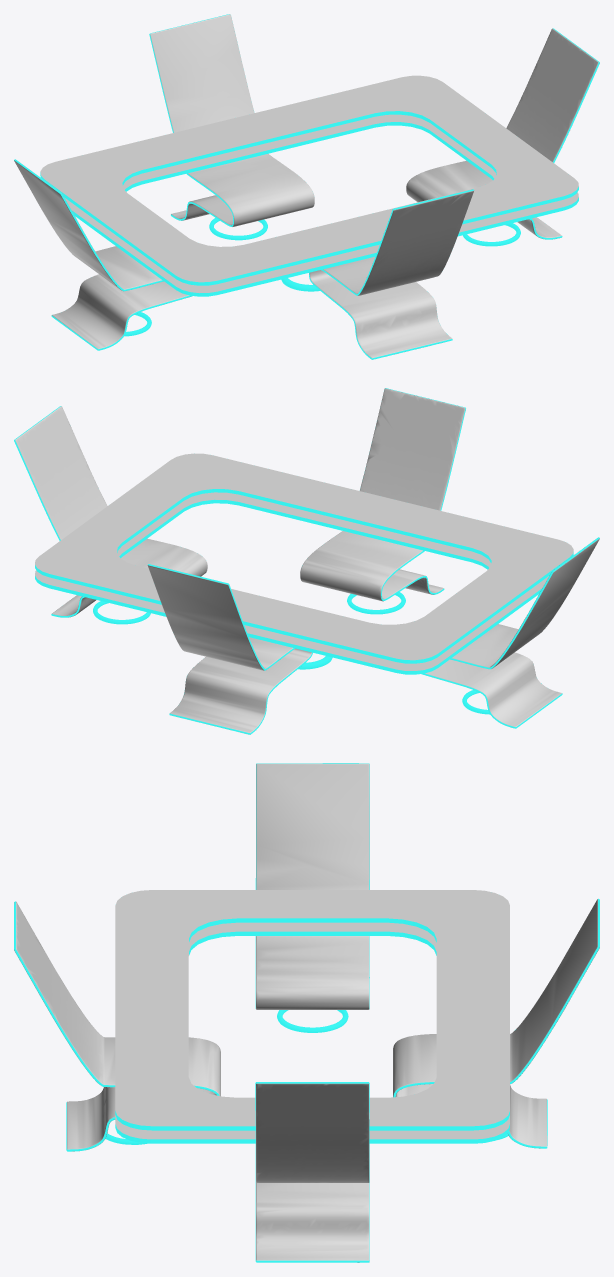
Rendered from meeting-table.glb.
The picture shows the model from 3 angles, top to bottom: view 1: azimuth 30°, elevation 25°; view 2: azimuth 150°, elevation 25°; view 3: azimuth 270°, elevation 25°; orthographic projection. The views are drawn at different scales.
Parts seen in each view (by area): view 1: Plane, Circle; view 2: Plane, Circle; view 3: Plane, Circle.
Part boxes in pixels (<box>): Plane: <box>14,14,598,358</box>; Circle: <box>14,14,599,359</box>; Plane: <box>15,388,599,733</box>; Circle: <box>14,388,599,734</box>; Plane: <box>14,763,599,1262</box>; Circle: <box>14,763,599,1262</box>.
Size of the model in its own units: 4.81 by 1.46 by 3.72.
